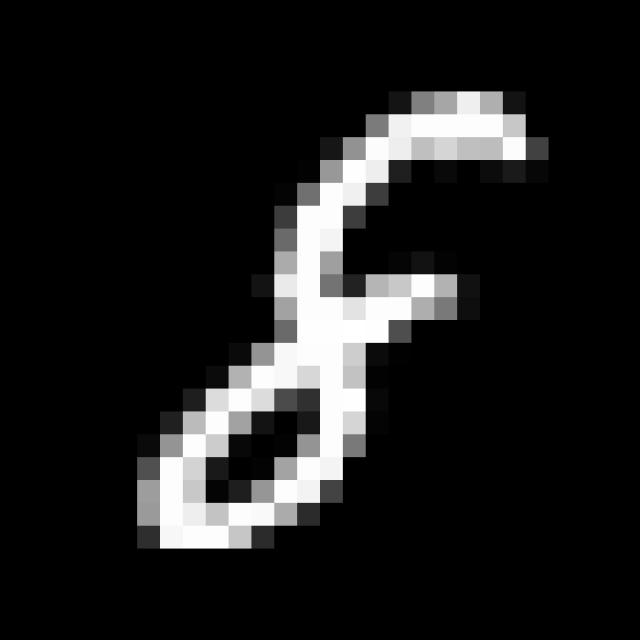eight -8-: (130, 89, 540, 569)
